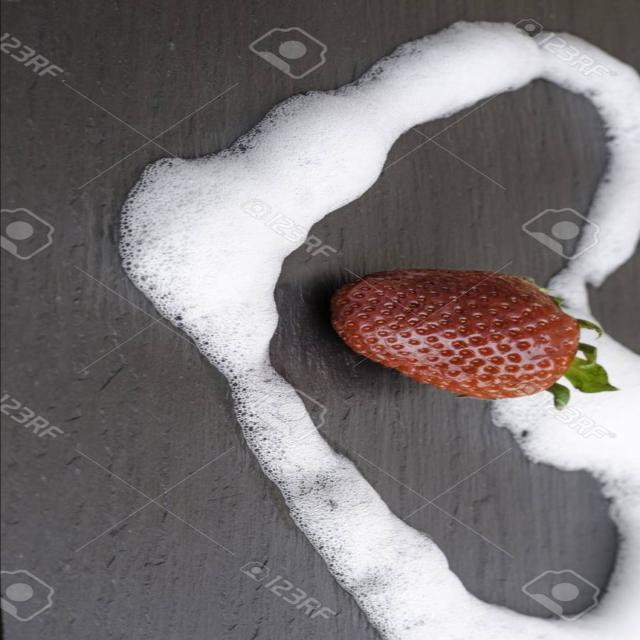strawberry: (332, 255, 626, 409)
